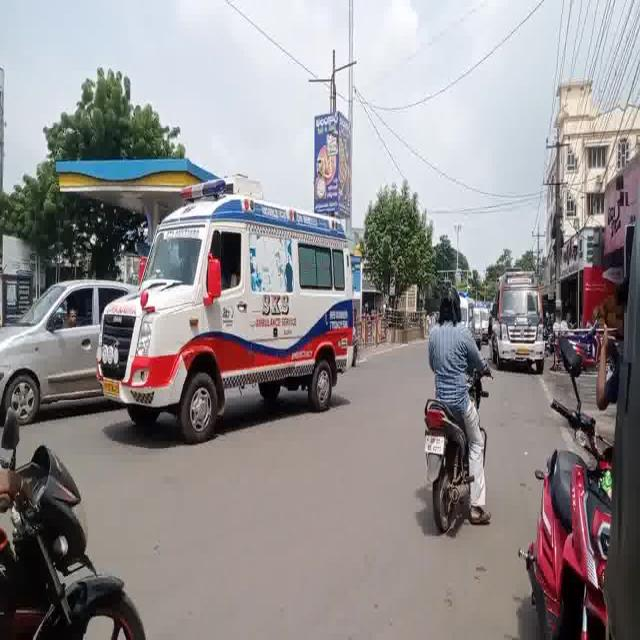ambulance: (83, 223, 373, 431), (488, 270, 553, 386)
